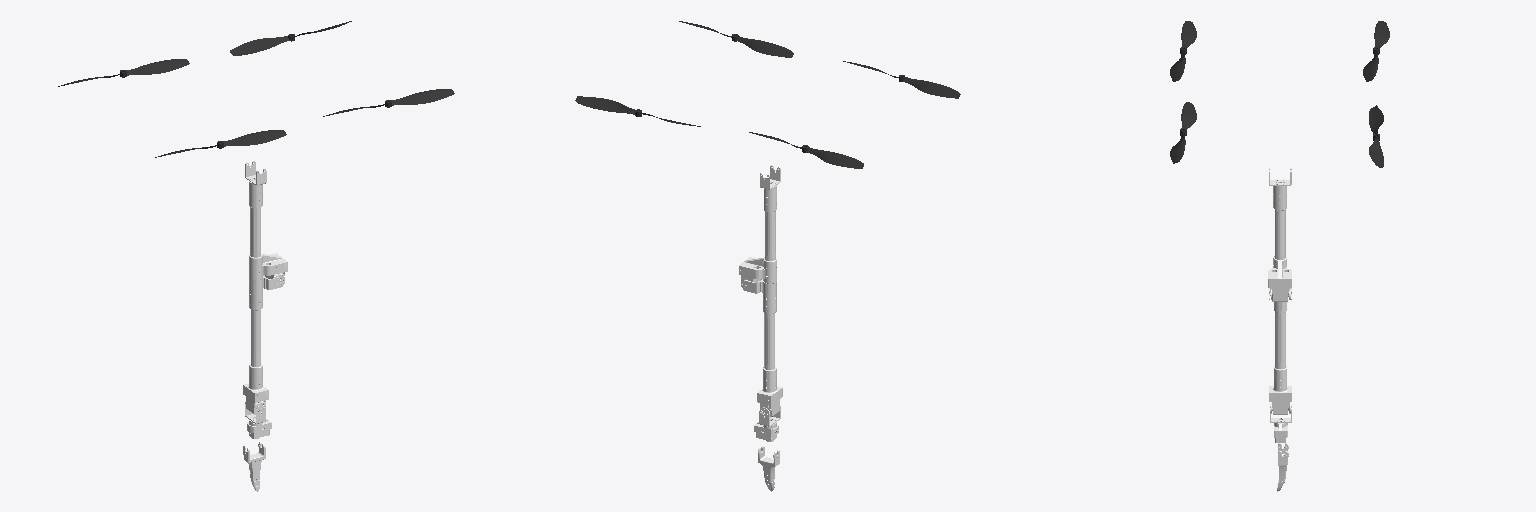
The robot description file, URDF, robot "x500_arm":
<?xml version="1.0" encoding="utf-8"?>
<!-- This URDF was automatically created by SolidWorks to URDF Exporter! Originally created by Stephen Brawner (brawner@gmail.com)
     Commit Version: 1.6.0-4-g7f85cfe  Build Version: 1.6.7995.38578
     For more information, please see http://wiki.ros.org/sw_urdf_exporter -->
<robot
  name="x500_arm">
  <link
    name="world"/>
  <joint
    name="floating_base_joint"
    type="floating">
    <origin
      xyz="0 0 0"
      rpy="0 0 0" />
    <parent
      link="world" />
    <child
      link="base_link" />
  </joint>
  <link
    name="base_link">
    <inertial>
      <origin
        xyz="0.012066 0.0004345 -0.036721"
        rpy="0 0 0" />
      <mass
        value="0.7359" />
      <inertia
        ixx="0.012731"
        ixy="8.62E-06"
        ixz="4.872E-05"
        iyy="0.01319"
        iyz="1.09E-06"
        izz="0.016875" />
    </inertial>
    <visual>
      <origin
        xyz="0 0 0"
        rpy="0 0 0" />
      <geometry>
        <mesh
          filename="package://x500_arm/meshes/base_link.STL" />
      </geometry>
      <material
        name="">
        <color
          rgba="1 1 1 1" />
      </material>
    </visual>
    <collision>
      <origin
        xyz="0 0 0"
        rpy="0 0 0" />
      <geometry>
        <mesh
          filename="package://x500_arm/meshes/base_link.STL" />
      </geometry>
    </collision>
  </link>
  <link
    name="rotor_1">
    <inertial>
      <origin
        xyz="0 0 -0.0062143"
        rpy="0 0 0" />
      <mass
        value="0.012" />
      <inertia
        ixx="4.6E-07"
        ixy="1.68E-06"
        ixz="0"
        iyy="5.76E-05"
        iyz="0"
        izz="5.789E-05" />
    </inertial>
    <visual>
      <origin
        xyz="0 0 0"
        rpy="0 0 0" />
      <geometry>
        <mesh
          filename="package://x500_arm/meshes/rotor_1.STL" />
      </geometry>
      <material
        name="">
        <color
          rgba="0.25098 0.25098 0.25098 1" />
      </material>
    </visual>
    <collision>
      <origin
        xyz="0 0 0"
        rpy="0 0 0" />
      <geometry>
        <mesh
          filename="package://x500_arm/meshes/rotor_1.STL" />
      </geometry>
    </collision>
  </link>
  <joint
    name="rotor_joint_1"
    type="continuous">
    <origin
      xyz="0.17688 -0.17688 0.066"
      rpy="0 0 0" />
    <parent
      link="base_link" />
    <child
      link="rotor_1" />
    <axis
      xyz="0 0 1" />
    <limit
      effort="0.217"
      velocity="1161.1" />
  </joint>
  <link
    name="rotor_2">
    <inertial>
      <origin
        xyz="0 0 -0.0062122"
        rpy="0 0 0" />
      <mass
        value="0.012" />
      <inertia
        ixx="4.6E-07"
        ixy="-1.69E-06"
        ixz="0"
        iyy="5.763E-05"
        iyz="0"
        izz="5.793E-05" />
    </inertial>
    <visual>
      <origin
        xyz="0 0 0"
        rpy="0 0 0" />
      <geometry>
        <mesh
          filename="package://x500_arm/meshes/rotor_2.STL" />
      </geometry>
      <material
        name="">
        <color
          rgba="0.25098 0.25098 0.25098 1" />
      </material>
    </visual>
    <collision>
      <origin
        xyz="0 0 0"
        rpy="0 0 0" />
      <geometry>
        <mesh
          filename="package://x500_arm/meshes/rotor_2.STL" />
      </geometry>
    </collision>
  </link>
  <joint
    name="rotor_joint_2"
    type="continuous">
    <origin
      xyz="0.17688 0.17688 0.066"
      rpy="0 0 0" />
    <parent
      link="base_link" />
    <child
      link="rotor_2" />
    <axis
      xyz="0 0 1" />
    <limit
      effort="0.217"
      velocity="1161.1" />
  </joint>
  <link
    name="rotor_3">
    <inertial>
      <origin
        xyz="0 0 -0.0037857"
        rpy="0 0 0" />
      <mass
        value="0.012" />
      <inertia
        ixx="4.6E-07"
        ixy="-1.68E-06"
        ixz="0"
        iyy="5.76E-05"
        iyz="0"
        izz="5.789E-05" />
    </inertial>
    <visual>
      <origin
        xyz="0 0 0"
        rpy="0 0 0" />
      <geometry>
        <mesh
          filename="package://x500_arm/meshes/rotor_3.STL" />
      </geometry>
      <material
        name="">
        <color
          rgba="0.25098 0.25098 0.25098 1" />
      </material>
    </visual>
    <collision>
      <origin
        xyz="0 0 0"
        rpy="0 0 0" />
      <geometry>
        <mesh
          filename="package://x500_arm/meshes/rotor_3.STL" />
      </geometry>
    </collision>
  </link>
  <joint
    name="rotor_joint_3"
    type="continuous">
    <origin
      xyz="-0.17688 0.17688 0.066"
      rpy="0 0 0" />
    <parent
      link="base_link" />
    <child
      link="rotor_3" />
    <axis
      xyz="0 0 1" />
    <limit
      effort="0.217"
      velocity="1161.1" />
  </joint>
  <link
    name="rotor_4">
    <inertial>
      <origin
        xyz="0 0 -0.0037878"
        rpy="0 0 0" />
      <mass
        value="0.012" />
      <inertia
        ixx="4.6E-07"
        ixy="1.69E-06"
        ixz="0"
        iyy="5.763E-05"
        iyz="0"
        izz="5.793E-05" />
    </inertial>
    <visual>
      <origin
        xyz="0 0 0"
        rpy="0 0 0" />
      <geometry>
        <mesh
          filename="package://x500_arm/meshes/rotor_4.STL" />
      </geometry>
      <material
        name="">
        <color
          rgba="0.25098 0.25098 0.25098 1" />
      </material>
    </visual>
    <collision>
      <origin
        xyz="0 0 0"
        rpy="0 0 0" />
      <geometry>
        <mesh
          filename="package://x500_arm/meshes/rotor_4.STL" />
      </geometry>
    </collision>
  </link>
  <joint
    name="rotor_joint_4"
    type="continuous">
    <origin
      xyz="-0.17688 -0.17688 0.066"
      rpy="0 0 0" />
    <parent
      link="base_link" />
    <child
      link="rotor_4" />
    <axis
      xyz="0 0 1" />
    <limit
      effort="0.217"
      velocity="1161.1" />
  </joint>
  <link
    name="link_1">
    <inertial>
      <origin
        xyz="0.023682 -0.16131 -0.00087342"
        rpy="0 0 0" />
      <mass
        value="0.1468" />
      <inertia
        ixx="0.0009994"
        ixy="0.00019641"
        ixz="2.22E-06"
        iyy="8.828E-05"
        iyz="-8.03E-06"
        izz="0.0010447" />
    </inertial>
    <visual>
      <origin
        xyz="0 0 0"
        rpy="0 0 0" />
      <geometry>
        <mesh
          filename="package://x500_arm/meshes/link_1.STL" />
      </geometry>
      <material
        name="">
        <color
          rgba="1 1 1 1" />
      </material>
    </visual>
    <collision>
      <origin
        xyz="0 0 0"
        rpy="0 0 0" />
      <geometry>
        <mesh
          filename="package://x500_arm/meshes/link_1.STL" />
      </geometry>
    </collision>
  </link>
  <joint
    name="joint_1"
    type="revolute">
    <origin
      xyz="0 0.0005 -0.088625"
      rpy="1.5708 0 0" />
    <parent
      link="base_link" />
    <child
      link="link_1" />
    <axis
      xyz="0 0 1" />
    <limit
      lower="-2.6485"
      upper="2.6485"
      effort="4.9008"
      velocity="8.95" />
    <dynamics
      damping="0.62275"
      friction="0.098067" />
  </joint>
  <link
    name="link_2">
    <inertial>
      <origin
        xyz="-0.037783 -0.16226 -0.00087726"
        rpy="0 0 0" />
      <mass
        value="0.1467" />
      <inertia
        ixx="0.0014513"
        ixy="-7.609E-05"
        ixz="-4.1E-07"
        iyy="4.144E-05"
        iyz="-1.015E-05"
        izz="0.0014495" />
    </inertial>
    <visual>
      <origin
        xyz="0 0 0"
        rpy="0 0 0" />
      <geometry>
        <mesh
          filename="package://x500_arm/meshes/link_2.STL" />
      </geometry>
      <material
        name="">
        <color
          rgba="1 1 1 1" />
      </material>
    </visual>
    <collision>
      <origin
        xyz="0 0 0"
        rpy="0 0 0" />
      <geometry>
        <mesh
          filename="package://x500_arm/meshes/link_2.STL" />
      </geometry>
    </collision>
  </link>
  <joint
    name="joint_2"
    type="revolute">
    <origin
      xyz="0.04098 -0.2314 -0.0005"
      rpy="0 0 0" />
    <parent
      link="link_1" />
    <child
      link="link_2" />
    <axis
      xyz="0 0 1" />
    <limit
      lower="0"
      upper="3.4907"
      effort="3.4305"
      velocity="4.72" />
    <dynamics
      damping="0.72763"
      friction="0.068647" />
  </joint>
  <link
    name="link_3">
    <inertial>
      <origin
        xyz="0.0040244 -0.039487 -4.87E-06"
        rpy="0 0 0" />
      <mass
        value="0.0618" />
      <inertia
        ixx="2.639E-05"
        ixy="2.57E-06"
        ixz="0"
        iyy="1.354E-05"
        iyz="0"
        izz="2.514E-05" />
    </inertial>
    <visual>
      <origin
        xyz="0 0 0"
        rpy="0 0 0" />
      <geometry>
        <mesh
          filename="package://x500_arm/meshes/link_3.STL" />
      </geometry>
      <material
        name="">
        <color
          rgba="1 1 1 1" />
      </material>
    </visual>
    <collision>
      <origin
        xyz="0 0 0"
        rpy="0 0 0" />
      <geometry>
        <mesh
          filename="package://x500_arm/meshes/link_3.STL" />
      </geometry>
    </collision>
  </link>
  <joint
    name="joint_3"
    type="revolute">
    <origin
      xyz="-0.04098 -0.24861 -0.0005"
      rpy="0 0 0" />
    <parent
      link="link_2" />
    <child
      link="link_3" />
    <axis
      xyz="0 0 1" />
    <limit
      lower="-2.6485"
      upper="2.6485"
      effort="3.4305"
      velocity="4.72" />
    <dynamics
      damping="0.72763"
      friction="0.068647" />
  </joint>
  <link
    name="link_4">
    <inertial>
      <origin
        xyz="0.012935 0.00072181 0.028883"
        rpy="0 0 0" />
      <mass
        value="0.022338" />
      <inertia
        ixx="1.164E-05"
        ixy="1.7E-07"
        ixz="-1.99E-06"
        iyy="1.445E-05"
        iyz="1.2E-07"
        izz="6.34E-06" />
    </inertial>
    <visual>
      <origin
        xyz="0 0 0"
        rpy="0 0 0" />
      <geometry>
        <mesh
          filename="package://x500_arm/meshes/link_4.STL" />
      </geometry>
      <material
        name="">
        <color
          rgba="1 1 1 1" />
      </material>
    </visual>
    <collision>
      <origin
        xyz="0 0 0"
        rpy="0 0 0" />
      <geometry>
        <mesh
          filename="package://x500_arm/meshes/link_4.STL" />
      </geometry>
    </collision>
  </link>
  <joint
    name="joint_4"
    type="revolute">
    <origin
      xyz="0 -0.0639 0"
      rpy="1.5708 -1.5708 0" />
    <parent
      link="link_3" />
    <child
      link="link_4" />
    <axis
      xyz="0 0 1" />
    <limit
      lower="-3.1416"
      upper="3.1416"
      effort="1.3918"
      velocity="10.47" />
    <dynamics
      damping="0.13298"
      friction="0.027851" />
  </joint>
  <link
    name="link_5">
    <inertial>
      <origin
        xyz="0.0015718 -0.03228008 -0.00038534"
        rpy="0 0 0" />
      <mass
        value="0.00926" />
      <inertia
        ixx="4.4E-06"
        ixy="2.7E-07"
        ixz="0"
        iyy="9.8E-07"
        iyz="1E-07"
        izz="3.87E-06" />
    </inertial>
    <visual>
      <origin
        xyz="0 0 0"
        rpy="0 0 0" />
      <geometry>
        <mesh
          filename="package://x500_arm/meshes/link_5.STL" />
      </geometry>
      <material
        name="">
        <color
          rgba="1 1 1 1" />
      </material>
    </visual>
    <collision>
      <origin
        xyz="0 0 0"
        rpy="0 0 0" />
      <geometry>
        <mesh
          filename="package://x500_arm/meshes/link_5.STL" />
      </geometry>
    </collision>
  </link>
  <joint
    name="joint_5"
    type="revolute">
    <origin
      xyz="-0.0044 0 0.02243"
      rpy="-1.5708 0 0" />
    <parent
      link="link_4" />
    <child
      link="link_5" />
    <axis
      xyz="0 0 1" />
    <limit
      lower="0"
      upper="1.7628"
      effort="1.3918"
      velocity="10.47" />
    <dynamics
      damping="0.13298"
      friction="0.027851" />
  </joint>
</robot>

--- Render facts (derived) ---
The picture shows the robot from 3 angles, left to right: view 1: azimuth 30°, elevation 25°; view 2: azimuth 150°, elevation 25°; view 3: azimuth 270°, elevation 25°; orthographic projection.
Robot: x500_arm — 11 links, 10 joints (5 revolute, 4 continuous, 1 floating); root link world; default pose: every joint at zero.
Links seen in each view (by area): view 1: link_1, link_2, rotor_3, rotor_4, rotor_1, rotor_2, link_3, link_5; view 2: link_2, link_1, rotor_2, rotor_3, rotor_1, rotor_4, link_3; view 3: link_1, link_2, rotor_1, rotor_3, rotor_4, rotor_2.
Boxes of the visible links, box(x1,y1,x2,y2) form: link_1: box(245, 161, 287, 285); link_2: box(243, 275, 282, 414); rotor_3: box(58, 59, 189, 86); rotor_4: box(155, 130, 286, 157); rotor_1: box(323, 89, 454, 116); rotor_2: box(230, 21, 351, 55); link_3: box(245, 402, 271, 438); link_5: box(243, 442, 265, 491); link_2: box(743, 279, 782, 417); link_1: box(739, 165, 780, 289); rotor_2: box(575, 96, 700, 126); rotor_3: box(749, 132, 863, 168); rotor_1: box(679, 21, 793, 57); rotor_4: box(843, 61, 960, 98); link_3: box(754, 406, 780, 441); link_1: box(1268, 167, 1291, 301); link_2: box(1269, 288, 1291, 414); rotor_1: box(1170, 102, 1196, 163); rotor_3: box(1363, 21, 1389, 81); rotor_4: box(1170, 21, 1196, 81); rotor_2: box(1369, 105, 1383, 167).
Bounding box of the posed robot: 0.615 × 0.4036 × 0.8135 m (x, y, z).
8 mesh visuals loaded from 10 distinct referenced files (8 binary STL); not drawn: 2 (reference not matched to a file when rendering).
